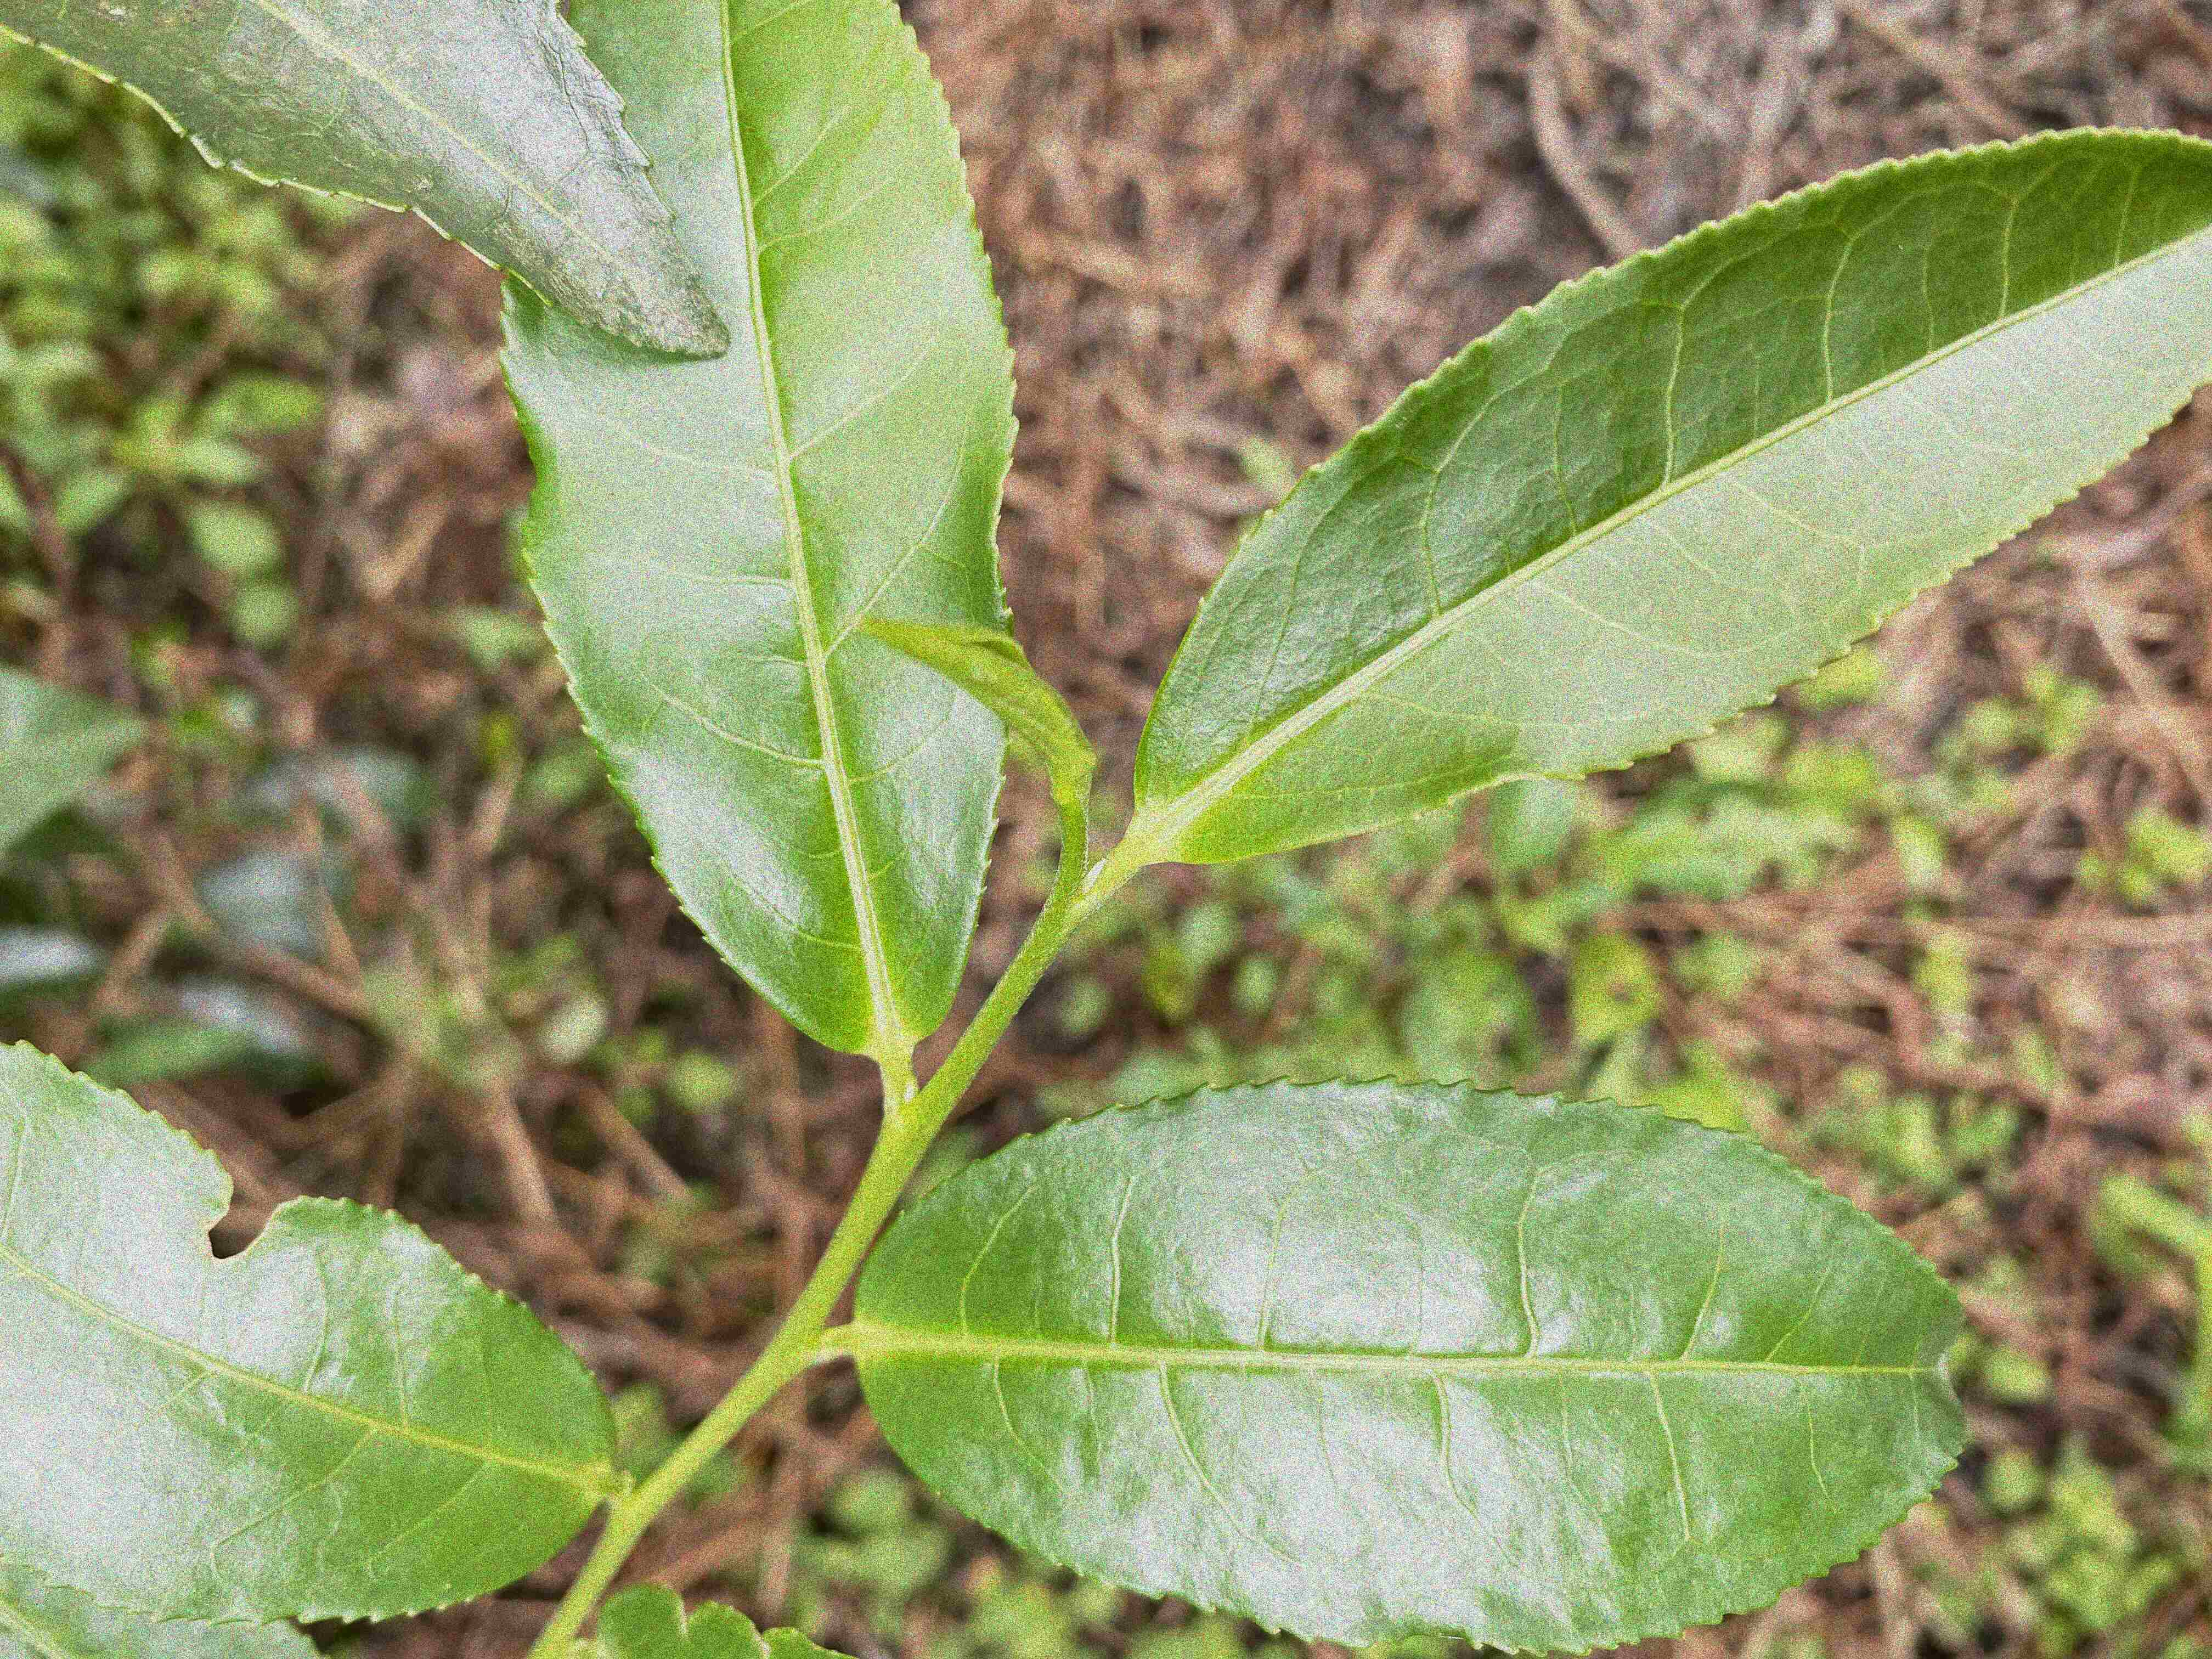chihuo_low: (5, 1039, 618, 1633)
healthy: (1134, 120, 2212, 870), (843, 1073, 1975, 1657), (498, 0, 1026, 1061)
